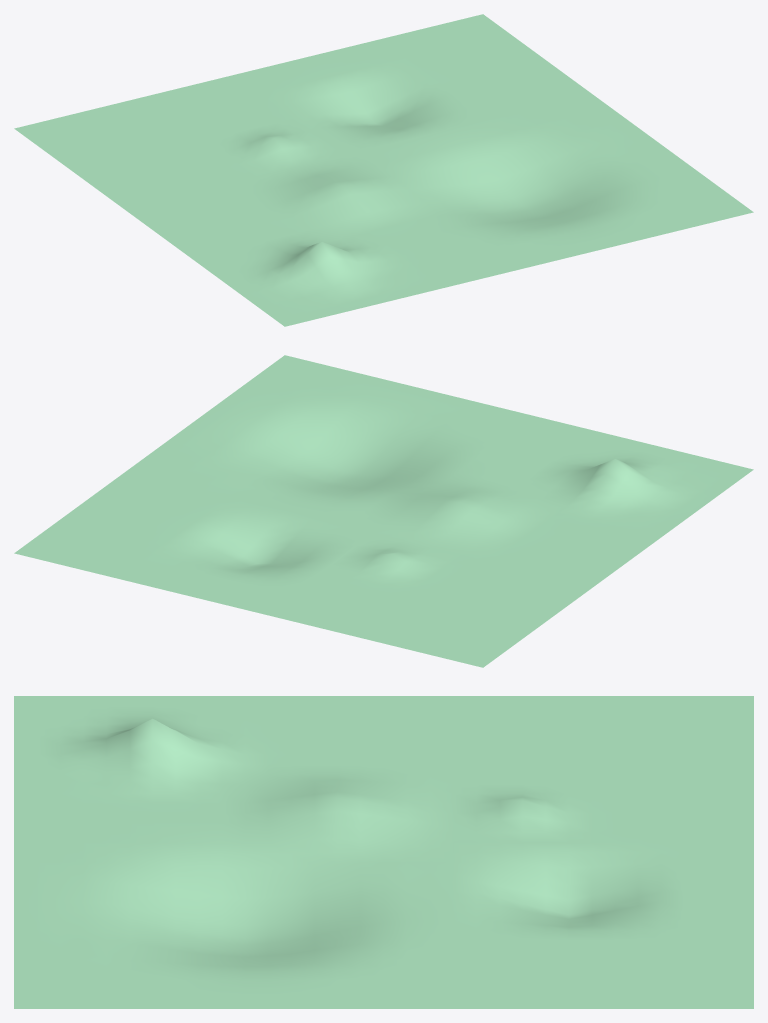
Rendered from dataset_test_stage.glb.
3 views of the same model, one above another, from view 1: azimuth 30°, elevation 25°; view 2: azimuth 150°, elevation 25°; view 3: azimuth 270°, elevation 25° (orthographic). The views are drawn at different scales.
Parts seen in each view (by area): view 1: Floor; view 2: Floor; view 3: Floor.
Boxes of the visible parts, x1=… form: Floor: x1=14, y1=14, x2=753, y2=326; Floor: x1=14, y1=355, x2=753, y2=667; Floor: x1=14, y1=696, x2=753, y2=1008.
Size of the model in its own units: 20 by 1.87 by 20.
